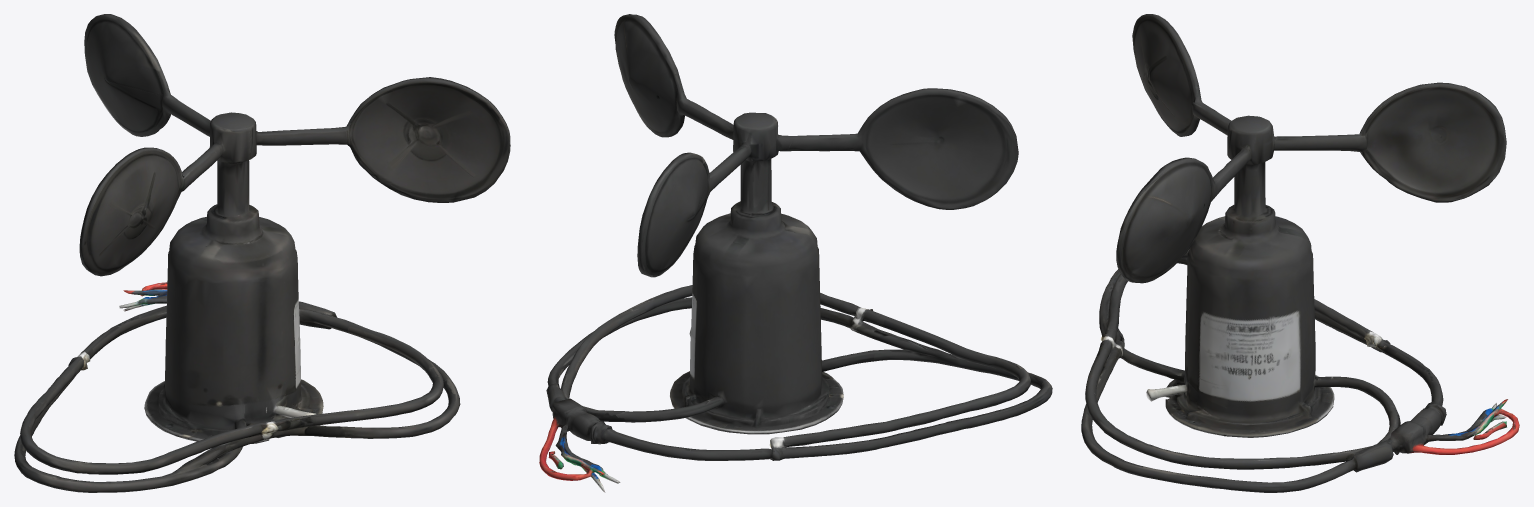
File: velocidadv.glb
3 renders of one model, left to right at view 1: azimuth 30°, elevation 25°; view 2: azimuth 150°, elevation 25°; view 3: azimuth 270°, elevation 25°, orthographic. The views are drawn at different scales.
Size of the model in its own units: 2 by 1.35 by 1.69.
Materials: 1 (1 with a texture image).
